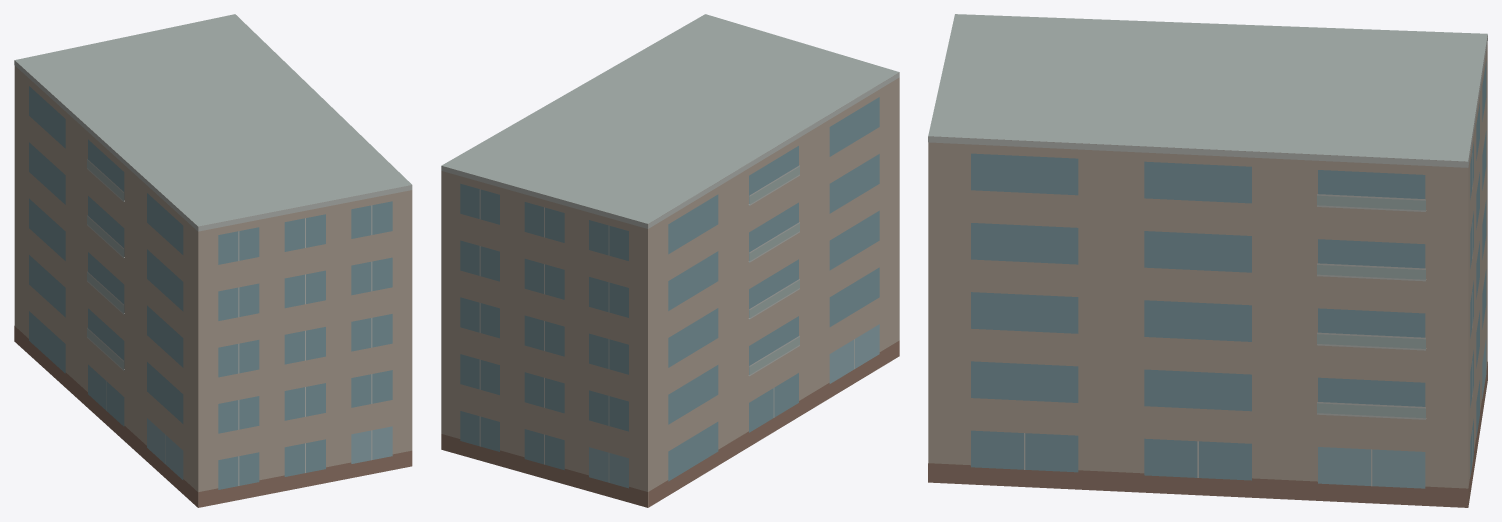
Rendered from survey-upis-32821108.glb.
3 views of the same model, side by side, from view 1: azimuth 30°, elevation 25°; view 2: azimuth 150°, elevation 25°; view 3: azimuth 270°, elevation 25° (orthographic). The views are drawn at different scales.
Visible parts, largest first — view 1: survey-upis-32821108.tmp; view 2: survey-upis-32821108.tmp; view 3: survey-upis-32821108.tmp.
Boxes of the visible parts, x1,y1,x2,y2 form: survey-upis-32821108.tmp: [14, 14, 412, 507]; survey-upis-32821108.tmp: [441, 14, 899, 507]; survey-upis-32821108.tmp: [928, 14, 1487, 507].
Bounding box in the file's own units: 12.35 × 13.5 × 19.78.
